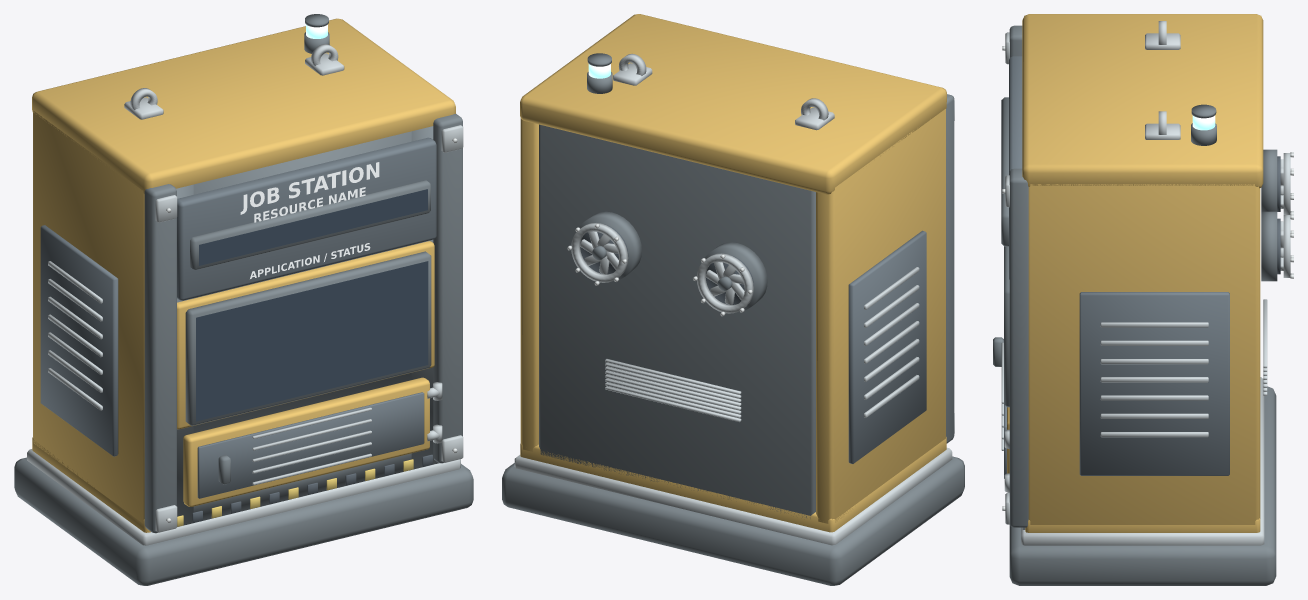
The model's file is job_station_enhanced.glb.
3 views of the same model, side by side, from view 1: azimuth 30°, elevation 25°; view 2: azimuth 150°, elevation 25°; view 3: azimuth 270°, elevation 25° (orthographic). The views are drawn at different scales.
Parts seen in each view (by area): view 1: Roof_gold, LiveViewSurface_glass, SideWall_gold, Skid_frame, CornerPost_frame, FrontHeader_graphite, SideServicePanel_graphite, DoorMoving_Inset_graphite, DoorMoving_Panel_gold, SkidDeck_steel, LiveViewSurfaceFrame_frame, ResourceNameSurface_glass (+15 smaller); view 2: BackWall_frame, Roof_gold, SideWall_gold, Skid_frame, SideServicePanel_graphite, SkidDeck_steel, KickPlate_gold, RearFan_steel, RearVent_steel, CornerPost_frame, RearFan_frame, SideLouver_steel (+3 smaller); view 3: SideWall_gold, Roof_gold, SideServicePanel_graphite, Skid_frame, CornerPost_frame, SideLouver_steel, SkidDeck_steel, RearFan_frame, KickPlate_gold, FrontHeader_graphite, RearFan_steel, ResourceNameSurfaceFrame_frame (+7 smaller).
Part boxes in pixels (<box>): Roof_gold: <box>32,18,455,194</box>; LiveViewSurface_glass: <box>196,261,428,421</box>; SideWall_gold: <box>33,111,144,523</box>; Skid_frame: <box>14,457,473,585</box>; CornerPost_frame: <box>144,114,462,533</box>; FrontHeader_graphite: <box>177,137,436,300</box>; SideServicePanel_graphite: <box>40,225,118,456</box>; DoorMoving_Inset_graphite: <box>197,392,424,498</box>; DoorMoving_Panel_gold: <box>183,377,429,506</box>; SkidDeck_steel: <box>27,449,460,545</box>; LiveViewSurfaceFrame_frame: <box>185,251,431,425</box>; ResourceNameSurface_glass: <box>199,189,427,265</box>; BackWall_frame: <box>539,124,815,518</box>; Roof_gold: <box>520,14,946,194</box>; SideWall_gold: <box>520,109,945,523</box>; Skid_frame: <box>502,456,964,585</box>; SideServicePanel_graphite: <box>848,230,926,463</box>; SkidDeck_steel: <box>514,447,952,545</box>; KickPlate_gold: <box>520,437,946,532</box>; RearFan_steel: <box>571,223,753,313</box>; RearVent_steel: <box>605,359,741,422</box>; CornerPost_frame: <box>946,94,954,443</box>; RearFan_frame: <box>579,211,767,311</box>; SideLouver_steel: <box>864,267,919,417</box>; SideWall_gold: <box>1028,184,1260,524</box>; Roof_gold: <box>1022,14,1263,188</box>; SideServicePanel_graphite: <box>1079,292,1229,475</box>; Skid_frame: <box>1009,386,1276,585</box>; CornerPost_frame: <box>1009,25,1028,527</box>; SideLouver_steel: <box>1100,322,1208,437</box>; SkidDeck_steel: <box>1021,377,1264,545</box>; RearFan_frame: <box>1261,149,1277,281</box>; KickPlate_gold: <box>1025,518,1260,532</box>; FrontHeader_graphite: <box>1009,56,1022,279</box>; RearFan_steel: <box>1280,153,1290,277</box>; ResourceNameSurfaceFrame_frame: <box>1001,97,1008,246</box>.
Bounding box in the file's own units: 2 × 2.48 × 1.51.
